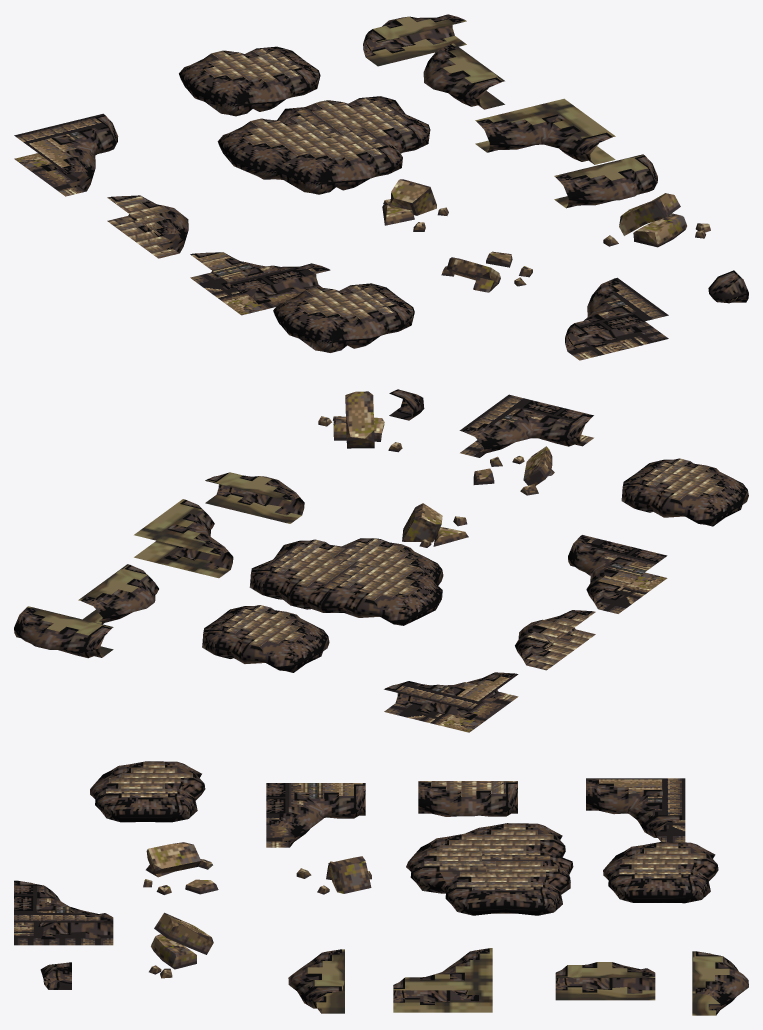
Rendered from EnvMdrMD_Ruins_A_Debris_A.FBX.
3 views of the same model, one above another, from view 1: azimuth 30°, elevation 25°; view 2: azimuth 150°, elevation 25°; view 3: azimuth 270°, elevation 25° (orthographic). The views are drawn at different scales.
Parts seen in each view (by area): view 1: EnvMdrMD_Ruins_A_Debris_A_Large, EnvMdrMD_Ruins_A_Debris_A, EnvMdrMD_Ruins_A_Debris_A_Grd, EnvMdrMD_Ruins_A_Debris_A_Grd_CoIn_RF, EnvMdrMD_Ruins_A_Debris_A_Grd_CoIn_RB, EnvMdrMD_Ruins_A_Debris_A_Grd_CoIn_LF, EnvMdrMD_Ruins_A_Debris_A_Grd_CoIn_LB, EnvMdrMD_Ruins_A_Debris_A_Grd_Loop_RS, EnvMdrMD_Ruins_A_Debris_A_Grd_Loop_LS, EnvMdrMD_Ruins_A_Debris_A_Grd_Loop_BK, EnvMdrMD_Ruins_A_Debris_A_Grd_Loop_FR, EnvMdrMD_Ruins_A_Debris_B (+3 smaller); view 2: EnvMdrMD_Ruins_A_Debris_A_Large, EnvMdrMD_Ruins_A_Debris_A, EnvMdrMD_Ruins_A_Debris_A_Grd, EnvMdrMD_Ruins_A_Debris_A_Grd_CoIn_LF, EnvMdrMD_Ruins_A_Debris_A_Grd_CoIn_RB, EnvMdrMD_Ruins_A_Debris_A_Grd_CoIn_LB, EnvMdrMD_Ruins_A_Debris_A_Grd_CoIn_RF, EnvMdrMD_Ruins_A_Debris_A_Grd_Loop_RS, EnvMdrMD_Ruins_A_Debris_A_Grd_Loop_LS, EnvMdrMD_Ruins_A_Debris_A_Grd_Loop_BK, EnvMdrMD_Ruins_A_Debris_A_Grd_Loop_FR, EnvMdrMD_Ruins_A_Debris_B (+3 smaller); view 3: EnvMdrMD_Ruins_A_Debris_A_Large, EnvMdrMD_Ruins_A_Debris_A, EnvMdrMD_Ruins_A_Debris_A_Grd, EnvMdrMD_Ruins_A_Debris_A_Grd_CoIn_RB, EnvMdrMD_Ruins_A_Debris_A_Grd_CoIn_LF, EnvMdrMD_Ruins_A_Debris_A_Grd_CoIn_LB, EnvMdrMD_Ruins_A_Debris_A_Grd_CoIn_RF, EnvMdrMD_Ruins_A_Debris_A_Grd_Loop_FR, EnvMdrMD_Ruins_A_Debris_A_Grd_Loop_BK, EnvMdrMD_Ruins_A_Debris_A_Grd_Loop_LS, EnvMdrMD_Ruins_A_Debris_A_Grd_Loop_RS, EnvMdrMD_Ruins_A_Debris_B (+3 smaller).
Part boxes in pixels (x1=…): EnvMdrMD_Ruins_A_Debris_A_Large: x1=217, y1=96, x2=430, y2=194; EnvMdrMD_Ruins_A_Debris_A: x1=273, y1=283, x2=414, y2=352; EnvMdrMD_Ruins_A_Debris_A_Grd: x1=179, y1=46, x2=320, y2=116; EnvMdrMD_Ruins_A_Debris_A_Grd_CoIn_RF: x1=475, y1=98, x2=615, y2=164; EnvMdrMD_Ruins_A_Debris_A_Grd_CoIn_RB: x1=14, y1=113, x2=118, y2=196; EnvMdrMD_Ruins_A_Debris_A_Grd_CoIn_LF: x1=565, y1=277, x2=668, y2=360; EnvMdrMD_Ruins_A_Debris_A_Grd_CoIn_LB: x1=190, y1=252, x2=330, y2=315; EnvMdrMD_Ruins_A_Debris_A_Grd_Loop_RS: x1=554, y1=154, x2=657, y2=208; EnvMdrMD_Ruins_A_Debris_A_Grd_Loop_LS: x1=363, y1=14, x2=466, y2=66; EnvMdrMD_Ruins_A_Debris_A_Grd_Loop_BK: x1=107, y1=195, x2=188, y2=258; EnvMdrMD_Ruins_A_Debris_A_Grd_Loop_FR: x1=423, y1=43, x2=504, y2=109; EnvMdrMD_Ruins_A_Debris_B: x1=603, y1=193, x2=710, y2=247; EnvMdrMD_Ruins_A_Debris_A_Large: x1=249, y1=538, x2=443, y2=625; EnvMdrMD_Ruins_A_Debris_A: x1=621, y1=458, x2=748, y2=526; EnvMdrMD_Ruins_A_Debris_A_Grd: x1=202, y1=605, x2=329, y2=672; EnvMdrMD_Ruins_A_Debris_A_Grd_CoIn_LF: x1=459, y1=394, x2=593, y2=457; EnvMdrMD_Ruins_A_Debris_A_Grd_CoIn_RB: x1=384, y1=672, x2=518, y2=732; EnvMdrMD_Ruins_A_Debris_A_Grd_CoIn_LB: x1=568, y1=535, x2=667, y2=613; EnvMdrMD_Ruins_A_Debris_A_Grd_CoIn_RF: x1=134, y1=499, x2=233, y2=578; EnvMdrMD_Ruins_A_Debris_A_Grd_Loop_RS: x1=205, y1=472, x2=304, y2=523; EnvMdrMD_Ruins_A_Debris_A_Grd_Loop_LS: x1=14, y1=606, x2=113, y2=658; EnvMdrMD_Ruins_A_Debris_A_Grd_Loop_BK: x1=515, y1=610, x2=595, y2=670; EnvMdrMD_Ruins_A_Debris_A_Grd_Loop_FR: x1=78, y1=564, x2=158, y2=624; EnvMdrMD_Ruins_A_Debris_B: x1=318, y1=391, x2=402, y2=452; EnvMdrMD_Ruins_A_Debris_A_Large: x1=406, y1=823, x2=573, y2=915; EnvMdrMD_Ruins_A_Debris_A: x1=90, y1=761, x2=205, y2=822; EnvMdrMD_Ruins_A_Debris_A_Grd: x1=603, y1=842, x2=718, y2=903; EnvMdrMD_Ruins_A_Debris_A_Grd_CoIn_RB: x1=586, y1=778, x2=685, y2=842; EnvMdrMD_Ruins_A_Debris_A_Grd_CoIn_LF: x1=14, y1=880, x2=113, y2=945; EnvMdrMD_Ruins_A_Debris_A_Grd_CoIn_LB: x1=266, y1=783, x2=365, y2=847; EnvMdrMD_Ruins_A_Debris_A_Grd_CoIn_RF: x1=393, y1=948, x2=492, y2=1012; EnvMdrMD_Ruins_A_Debris_A_Grd_Loop_FR: x1=555, y1=962, x2=655, y2=1000; EnvMdrMD_Ruins_A_Debris_A_Grd_Loop_BK: x1=418, y1=781, x2=517, y2=816; EnvMdrMD_Ruins_A_Debris_A_Grd_Loop_LS: x1=692, y1=951, x2=748, y2=1015; EnvMdrMD_Ruins_A_Debris_A_Grd_Loop_RS: x1=288, y1=949, x2=344, y2=1013; EnvMdrMD_Ruins_A_Debris_B: x1=149, y1=912, x2=213, y2=978.
Size of the model in its own units: 1034 by 143 by 1478.
4 materials, 4 textured.
